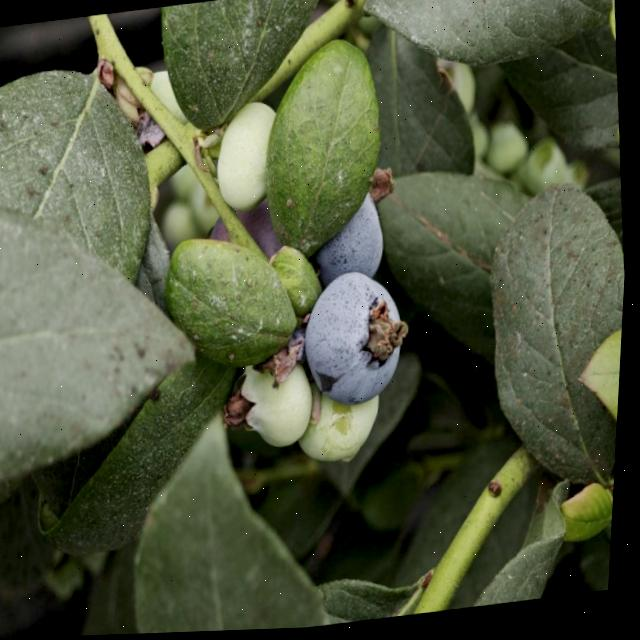RipeBlueBerry: (299, 268, 416, 411)
